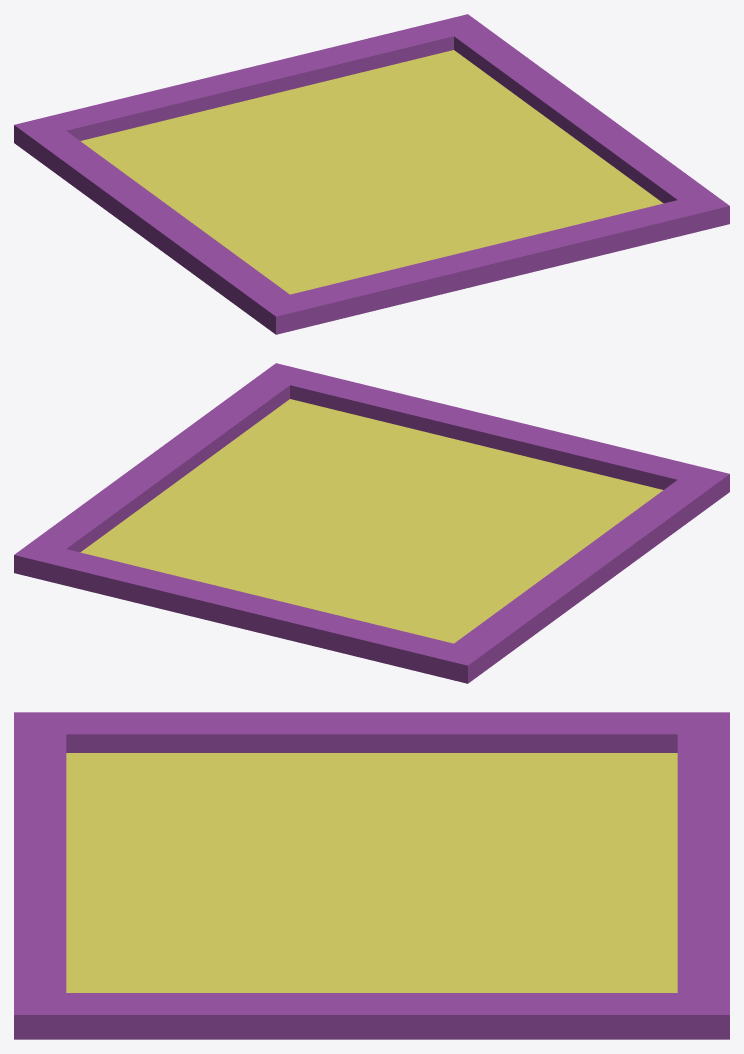
Rendered from reach platform purple.fbx.
The picture shows the model from 3 angles, top to bottom: view 1: azimuth 30°, elevation 25°; view 2: azimuth 150°, elevation 25°; view 3: azimuth 270°, elevation 25°; orthographic projection. The views are drawn at different scales.
Visible parts, largest first — view 1: Cube.030; view 2: Cube.030; view 3: Cube.030.
Boxes of the visible parts, <box> form: Cube.030: <box>14,14,729,334</box>; Cube.030: <box>14,363,729,683</box>; Cube.030: <box>14,712,729,1039</box>.
Bounding box in the file's own units: 1877 × 71.67 × 1877.
